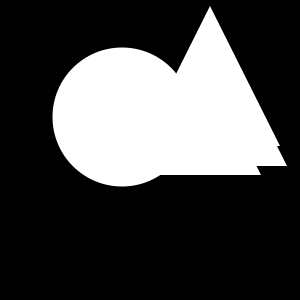rectangle: (53, 48, 192, 186)
triangle: (140, 6, 280, 146), (181, 60, 287, 166), (160, 74, 261, 175), (141, 110, 179, 148)
